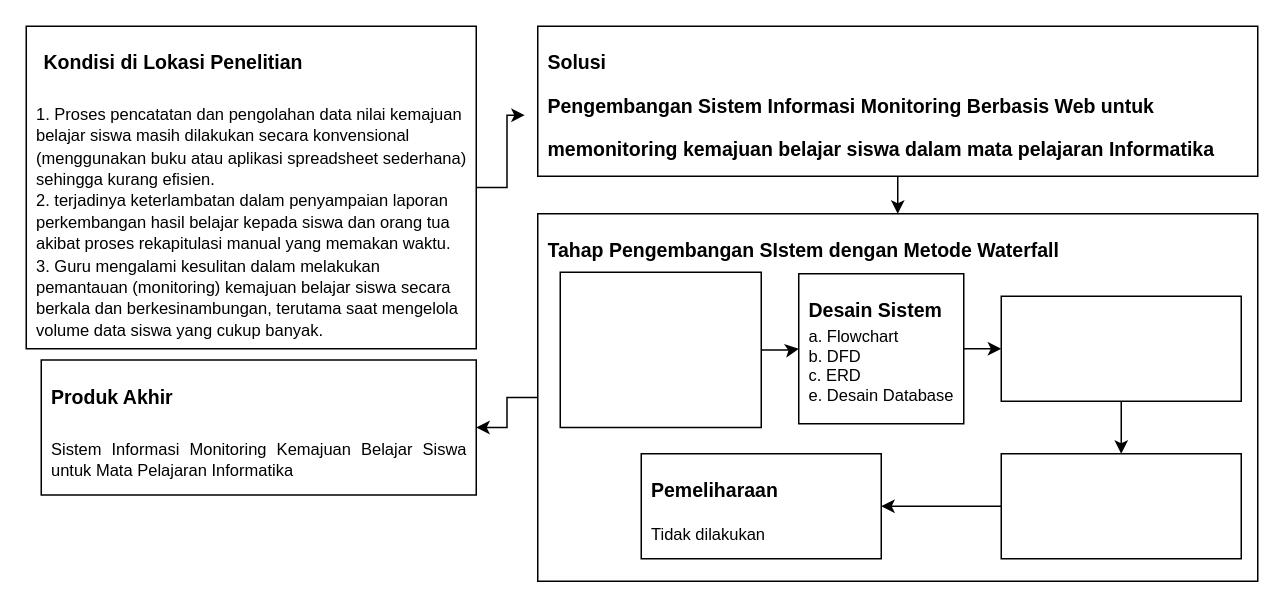
This 1284x612 diagram has some shape labels left out. Each missing label, with the centre of its shape:
"Analisis Kebutuhan a. Kebutuhan Sistem b. Kebutuhan Pengguna" belongs at (660,349).
"Implementasi Pengkodean (Codding Aplikasi)" belongs at (1120,348).
"Pengujian Blackbok Testing" belongs at (1120,505).
